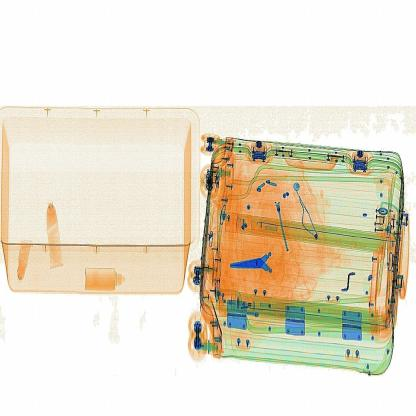gun: (230, 231, 298, 285)
